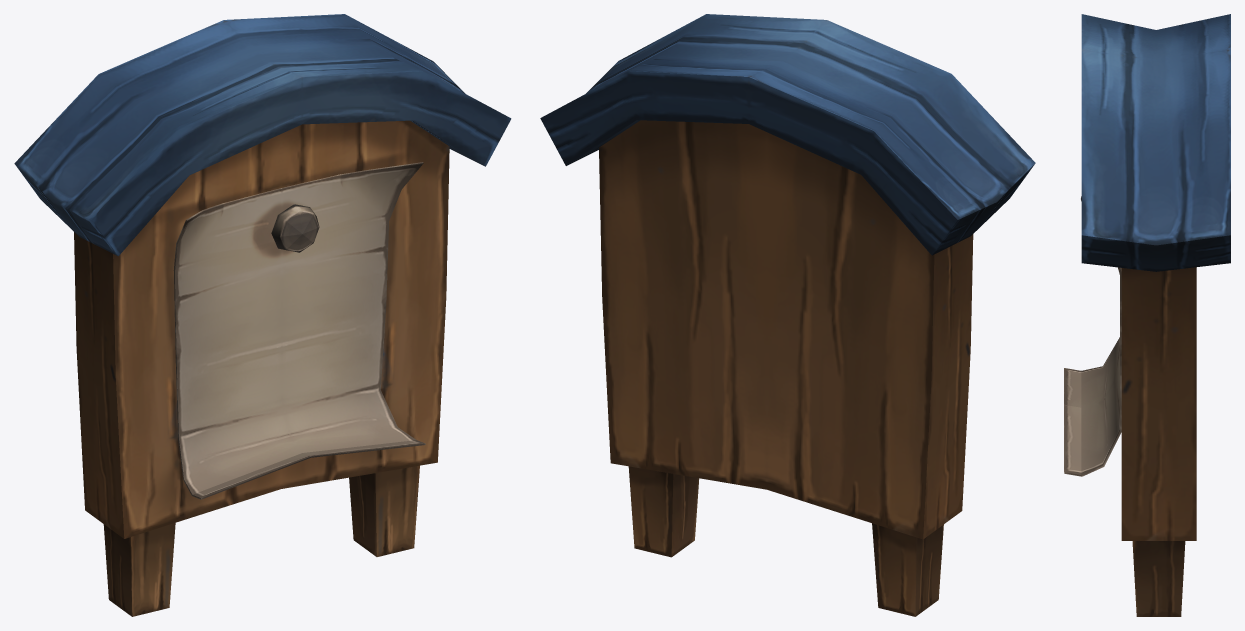
File: 84_noticeboard.FBX
3 views of the same model, side by side, from view 1: azimuth 30°, elevation 25°; view 2: azimuth 150°, elevation 25°; view 3: azimuth 270°, elevation 25° (orthographic). The views are drawn at different scales.
Visible parts, largest first — view 1: Object036; view 2: Object036; view 3: Object036.
Boxes of the visible parts, left/top/right/bottom form: Object036: left=14, top=14, right=511, bottom=616; Object036: left=540, top=14, right=1035, bottom=616; Object036: left=1064, top=14, right=1230, bottom=616.
Bounding box in the file's own units: 46.26 × 55.54 × 16.73.
